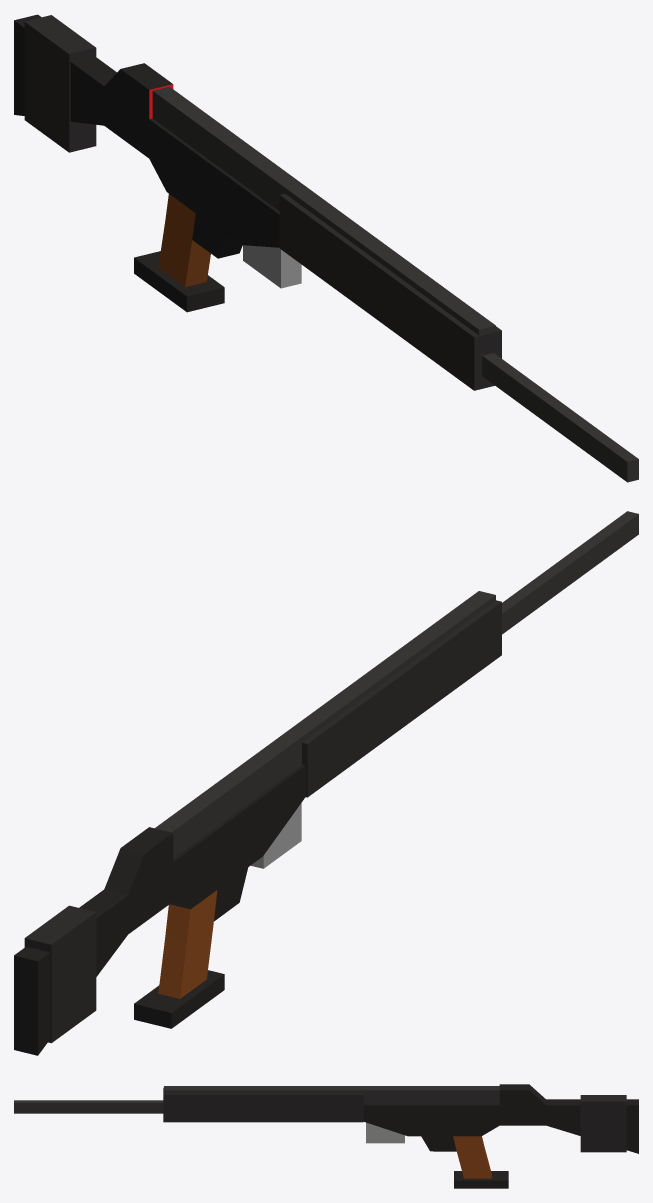
File: RifleG1.FBX
The picture shows the model from 3 angles, top to bottom: view 1: azimuth 30°, elevation 25°; view 2: azimuth 150°, elevation 25°; view 3: azimuth 270°, elevation 25°; orthographic projection. The views are drawn at different scales.
Parts seen in each view (by area): view 1: RifleG1, RifleG1Mag; view 2: RifleG1, RifleG1Mag; view 3: RifleG1, RifleG1Mag.
Part boxes in pixels (bbox=[...]): RifleG1: bbox=[14, 14, 638, 482]; RifleG1Mag: bbox=[243, 245, 301, 288]; RifleG1: bbox=[14, 511, 638, 1055]; RifleG1Mag: bbox=[251, 803, 301, 868]; RifleG1: bbox=[14, 1084, 638, 1188]; RifleG1Mag: bbox=[366, 1122, 404, 1143].
Size of the model in its own units: 9.86 by 276 by 47.09.
